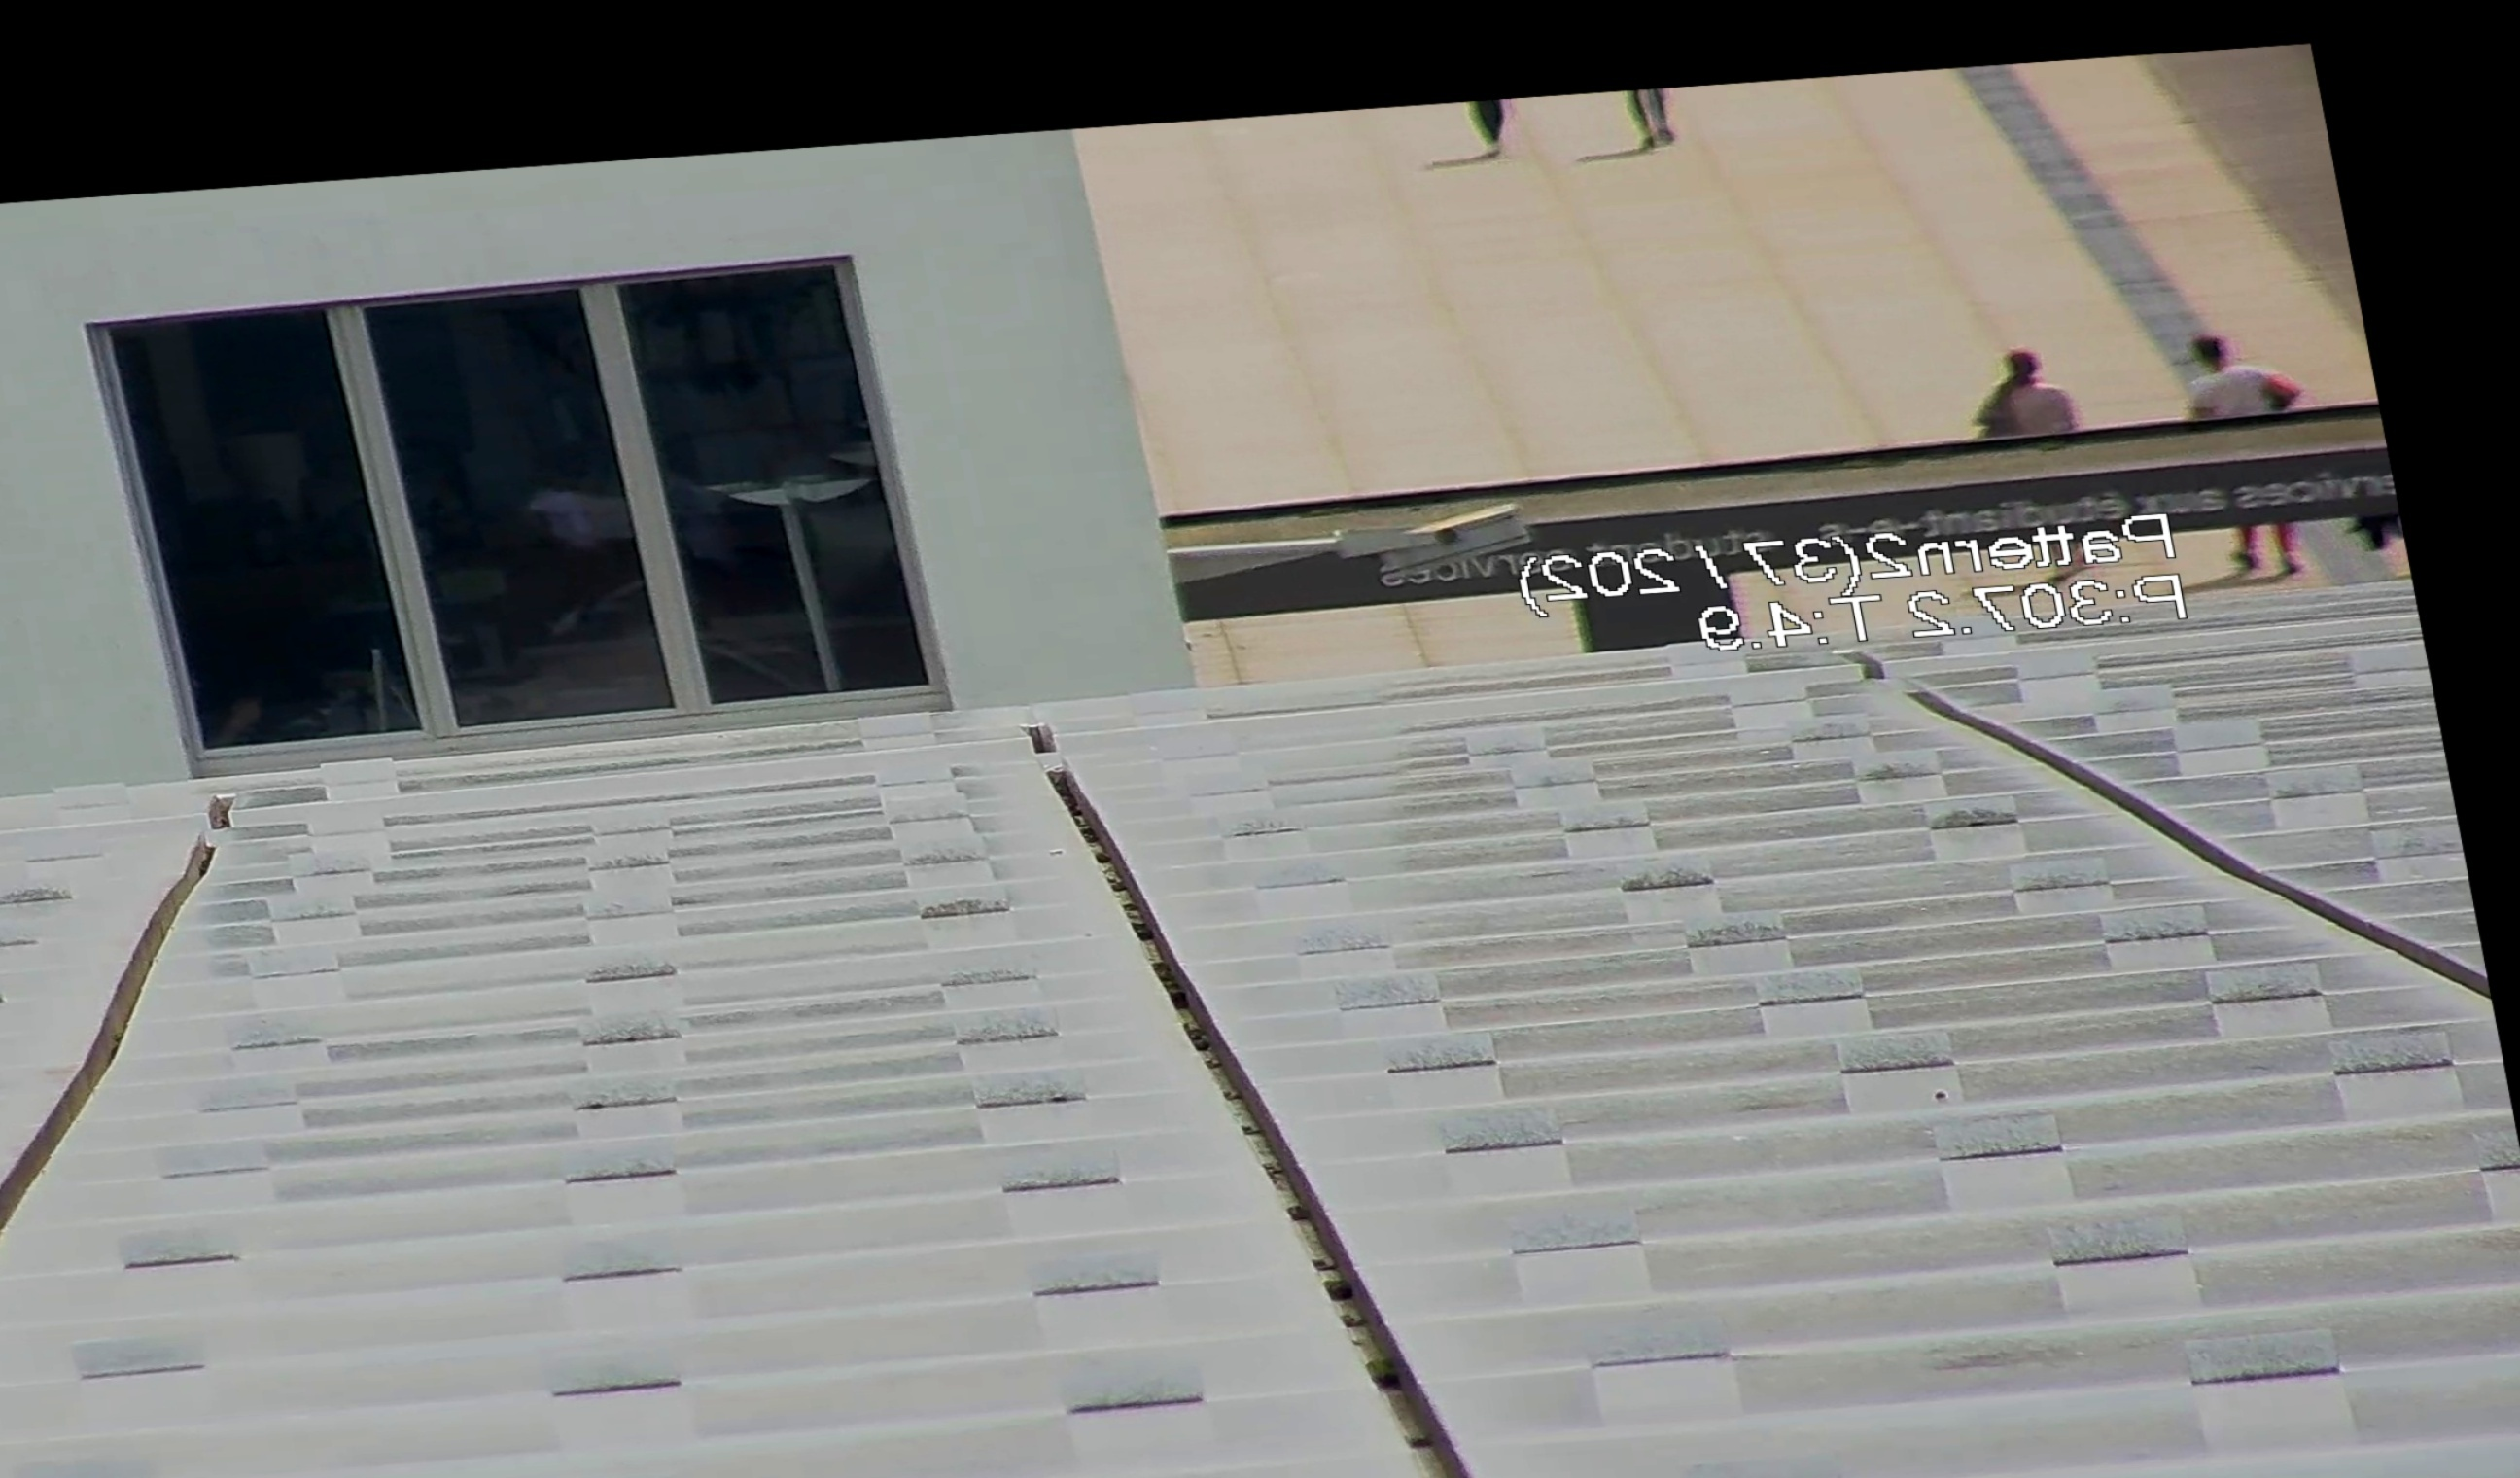Other: (1956, 334, 2094, 443)
